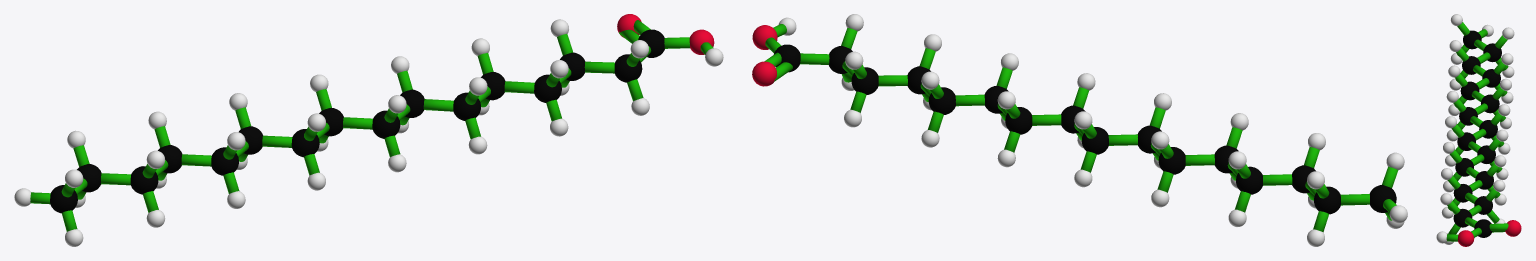
File: lipids.glb
3 renders of one model, left to right at view 1: azimuth 30°, elevation 25°; view 2: azimuth 150°, elevation 25°; view 3: azimuth 270°, elevation 25°, orthographic. The views are drawn at different scales.
Parts seen in each view (by area): view 1: lipid.050_0; view 2: lipid.050_0; view 3: lipid.050_0.
Part boxes in pixels (x1,y1,x2,y2): lipid.050_0: [14, 14, 723, 246]; lipid.050_0: [752, 14, 1407, 246]; lipid.050_0: [1436, 14, 1521, 246].
Bounding box in the file's own units: 214 × 23.14 × 35.25.
